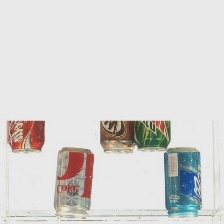can: (49, 145, 95, 220), (160, 144, 204, 219), (6, 118, 44, 156), (133, 118, 172, 154), (97, 119, 134, 155)
